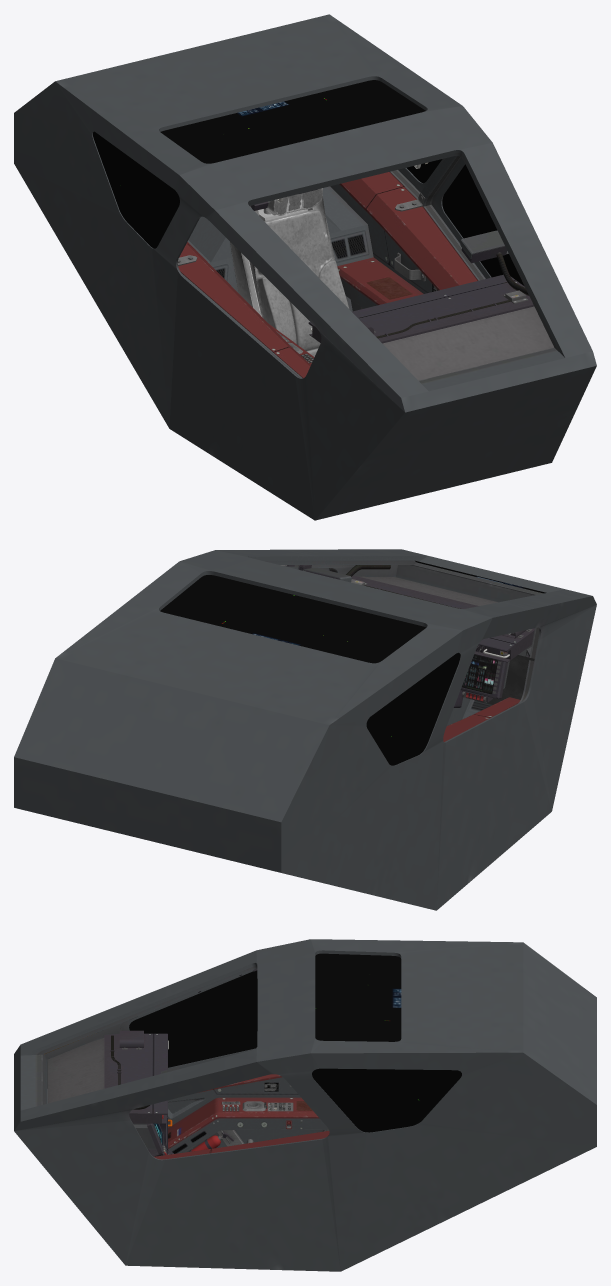
Rendered from space_shuttle.glb.
3 views of the same model, one above another, from view 1: azimuth 30°, elevation 25°; view 2: azimuth 150°, elevation 25°; view 3: azimuth 270°, elevation 25° (orthographic). The views are drawn at different scales.
Parts seen in each view (by area): view 1: Object_3, Object_8, Object_2; view 2: Object_3, Object_8, Object_6, Object_7; view 3: Object_3, Object_8.
Part boxes in pixels (left/top/right/bottom): Object_3: left=14, top=14, right=596, bottom=520; Object_8: left=93, top=80, right=524, bottom=286; Object_2: left=230, top=188, right=349, bottom=356; Object_3: left=14, top=549, right=596, bottom=910; Object_8: left=160, top=560, right=546, bottom=765; Object_6: left=462, top=654, right=497, bottom=694; Object_7: left=465, top=655, right=534, bottom=704; Object_3: left=14, top=939, right=596, bottom=1271; Object_8: left=129, top=953, right=461, bottom=1132.
Bounding box in the file's own units: 164 × 149 × 353.
7 materials, 6 textured.
